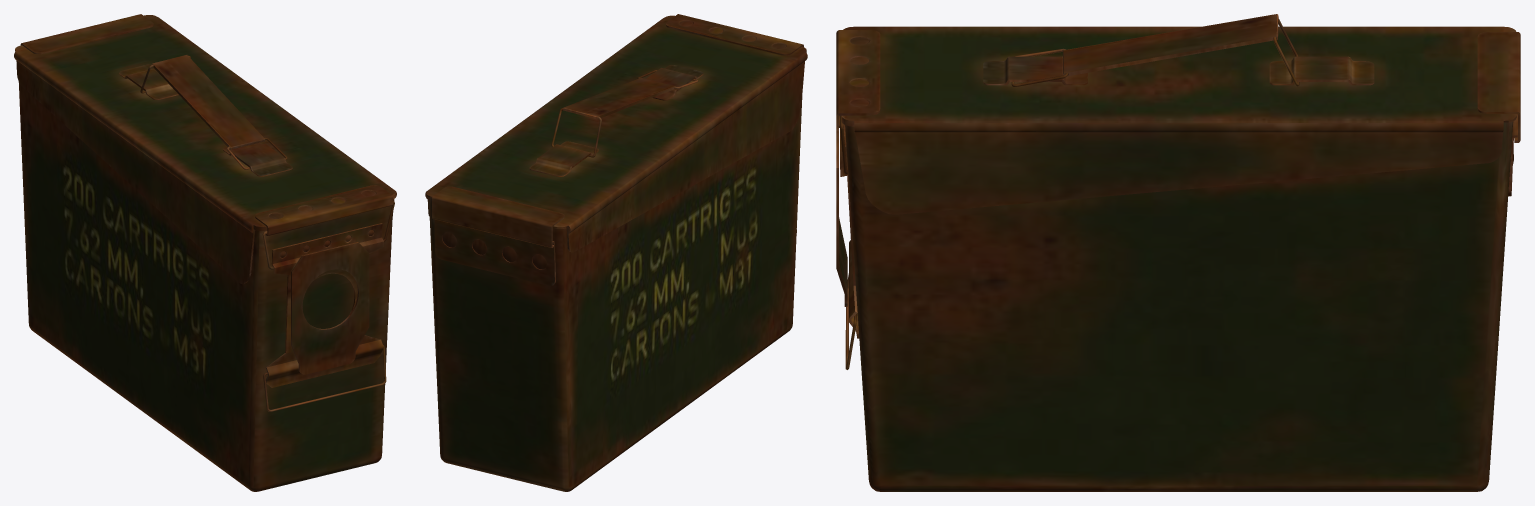
Rendered from ammo_box.glb.
3 views of the same model, side by side, from view 1: azimuth 30°, elevation 25°; view 2: azimuth 150°, elevation 25°; view 3: azimuth 270°, elevation 25° (orthographic). The views are drawn at different scales.
Visible parts, largest first — view 1: ammo_box, ammo_box_handle, ammo_box_latch; view 2: ammo_box, ammo_box_handle; view 3: ammo_box, ammo_box_handle.
Part boxes in pixels (bbox=[...]): ammo_box: bbox=[14, 14, 396, 491]; ammo_box_handle: bbox=[152, 55, 265, 149]; ammo_box_latch: bbox=[263, 345, 386, 411]; ammo_box: bbox=[425, 14, 807, 491]; ammo_box_handle: bbox=[563, 77, 675, 119]; ammo_box: bbox=[836, 26, 1520, 491]; ammo_box_handle: bbox=[1063, 14, 1278, 75].
Bounding box in the file's own units: 0.0865 × 0.1775 × 0.2579.
1 material, 1 textured.
